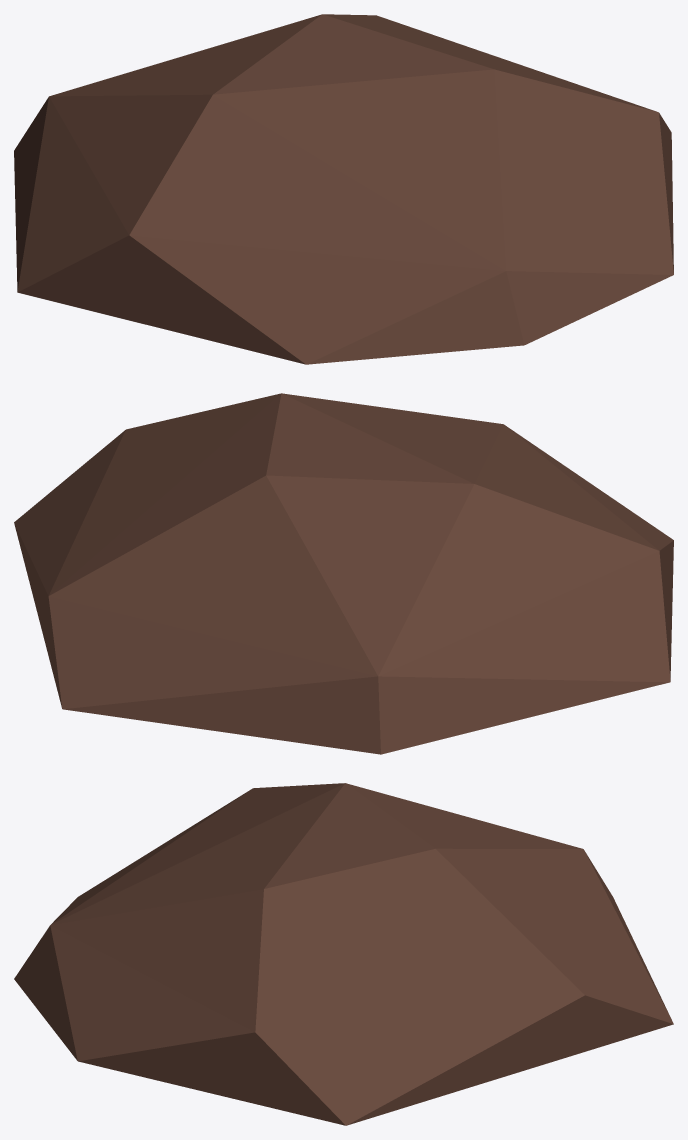
The model's file is Egg_Burned.glb.
The picture shows the model from 3 angles, top to bottom: view 1: azimuth 30°, elevation 25°; view 2: azimuth 150°, elevation 25°; view 3: azimuth 270°, elevation 25°; orthographic projection. The views are drawn at different scales.
Visible parts, largest first — view 1: DarkBrown; view 2: DarkBrown; view 3: DarkBrown.
Part boxes in pixels (<box>): DarkBrown: <box>14,14,673,364</box>; DarkBrown: <box>14,393,673,754</box>; DarkBrown: <box>14,783,673,1125</box>.
Size of what is drawn, in the model's own units: 0.429 by 0.0976 by 0.4089.
